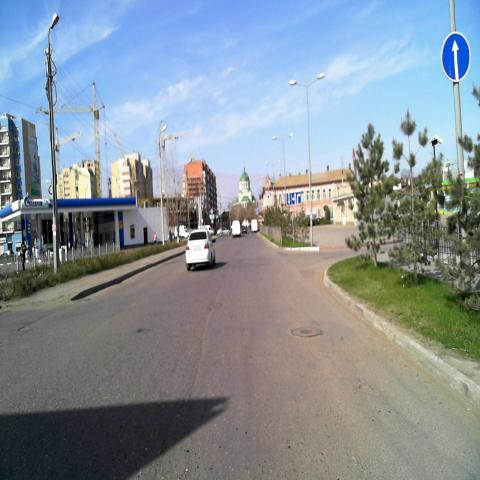5_15_7: (286, 190, 302, 206)
